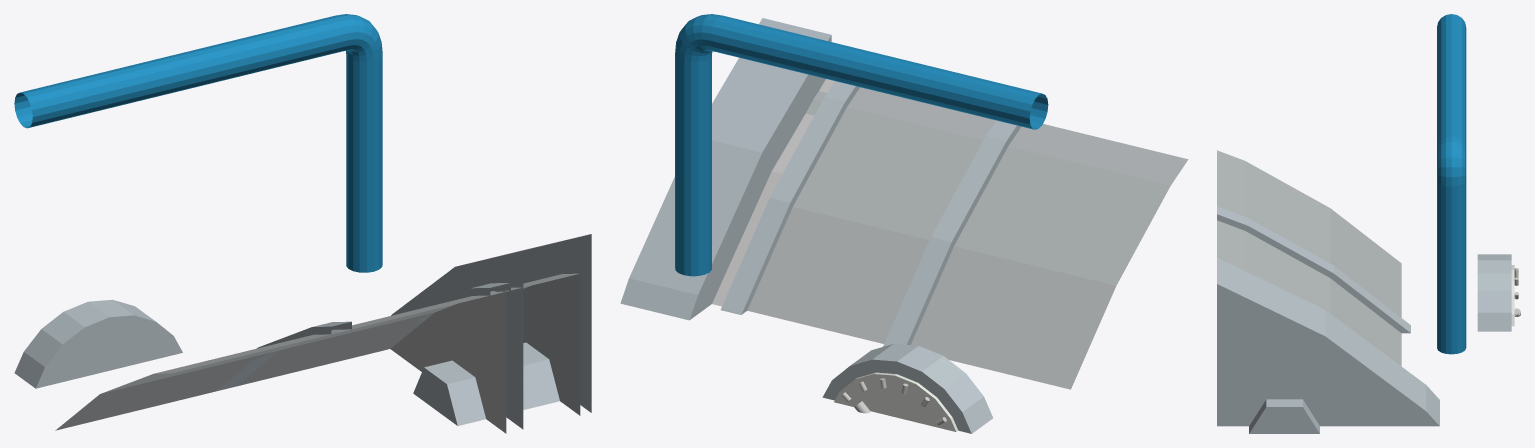
Rendered from cell_114.obj.
The picture shows the model from 3 angles, left to right: view 1: azimuth 30°, elevation 25°; view 2: azimuth 150°, elevation 25°; view 3: azimuth 270°, elevation 25°; orthographic projection. The views are drawn at different scales.
Bounding box in the file's own units: 0.775 × 0.528 × 0.583.
